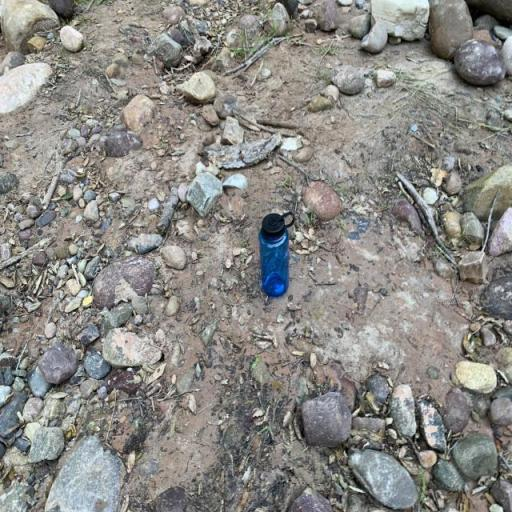bottle: (259, 211, 295, 297)
